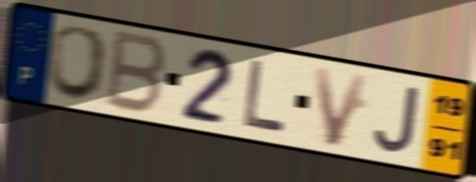2: (175, 44, 239, 131)
B: (102, 27, 171, 118)
J: (371, 83, 423, 156)
L: (241, 56, 290, 135)
O: (42, 23, 114, 104)
V: (310, 64, 373, 150)
